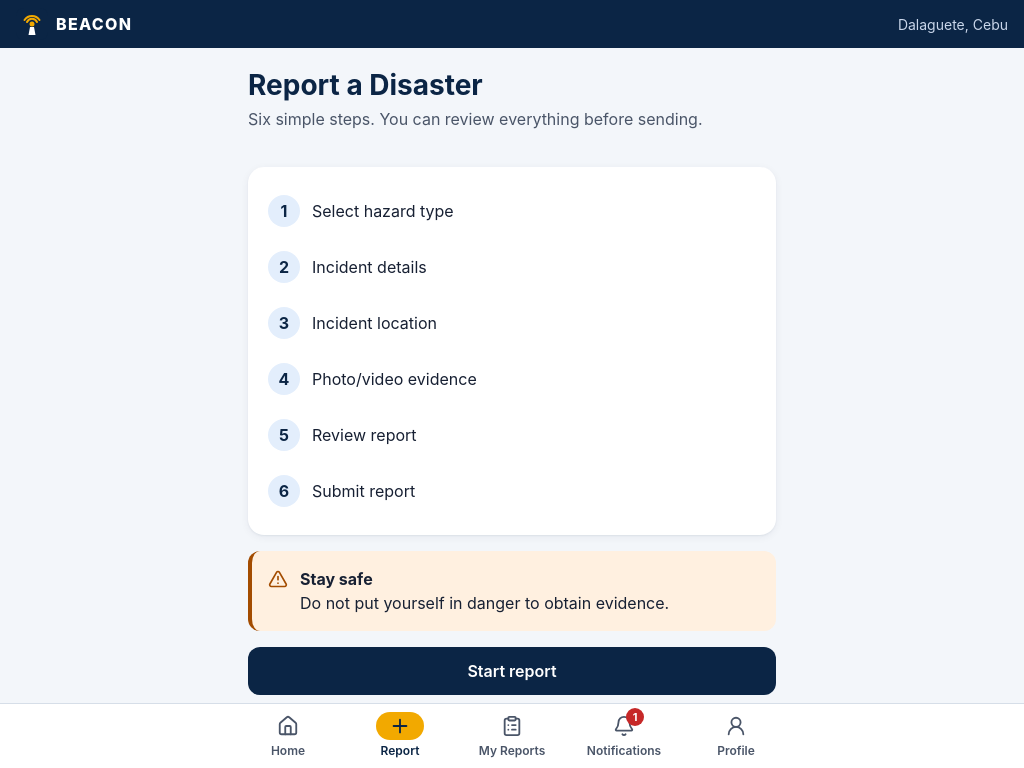
Test: step 2: incident details › requires a description
The width and height of the screenshot is (1024, 768).
Click the button "Start report" at (512, 671), box [248, 647, 776, 695]
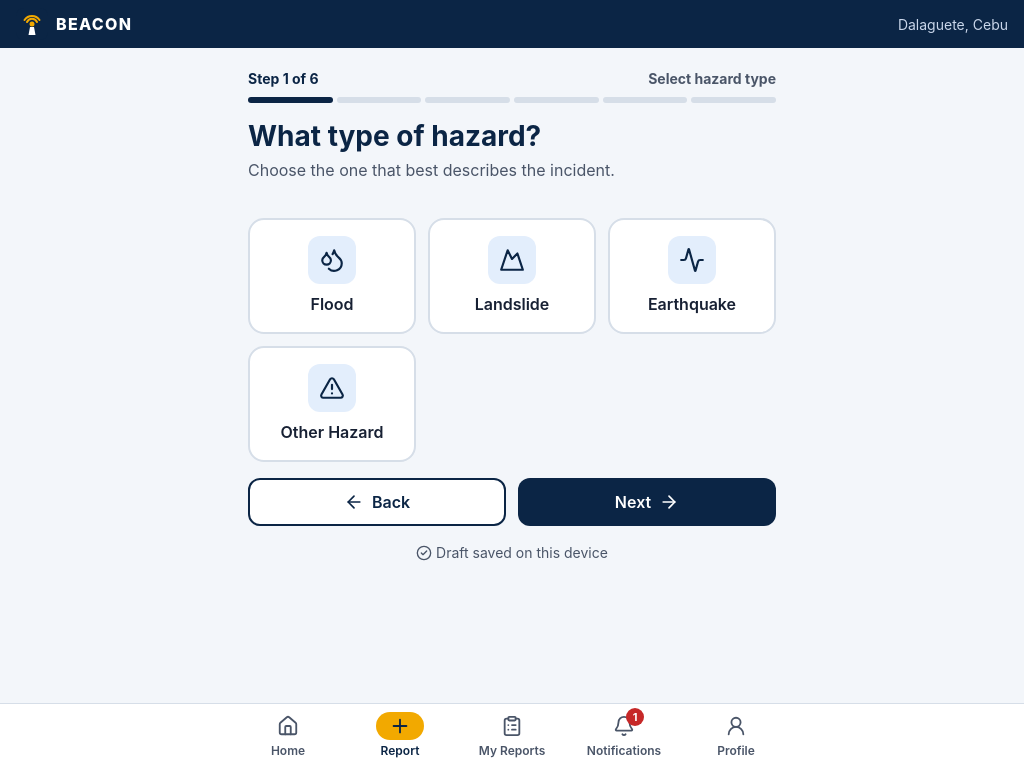
Expected: the heading "What type of hazard?" is shown, [248, 119, 541, 153]
Click the radio button labelled "Landslide" at (512, 276), box [428, 218, 596, 334]
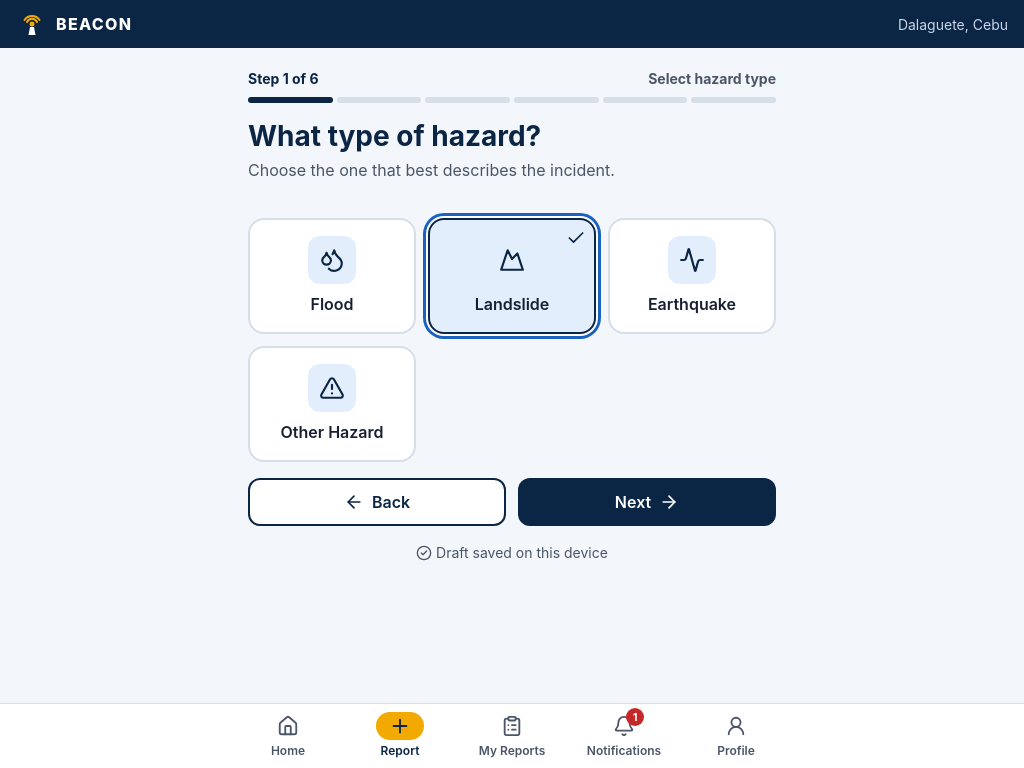
Click the button "Next" at (647, 502), box [518, 478, 776, 526]
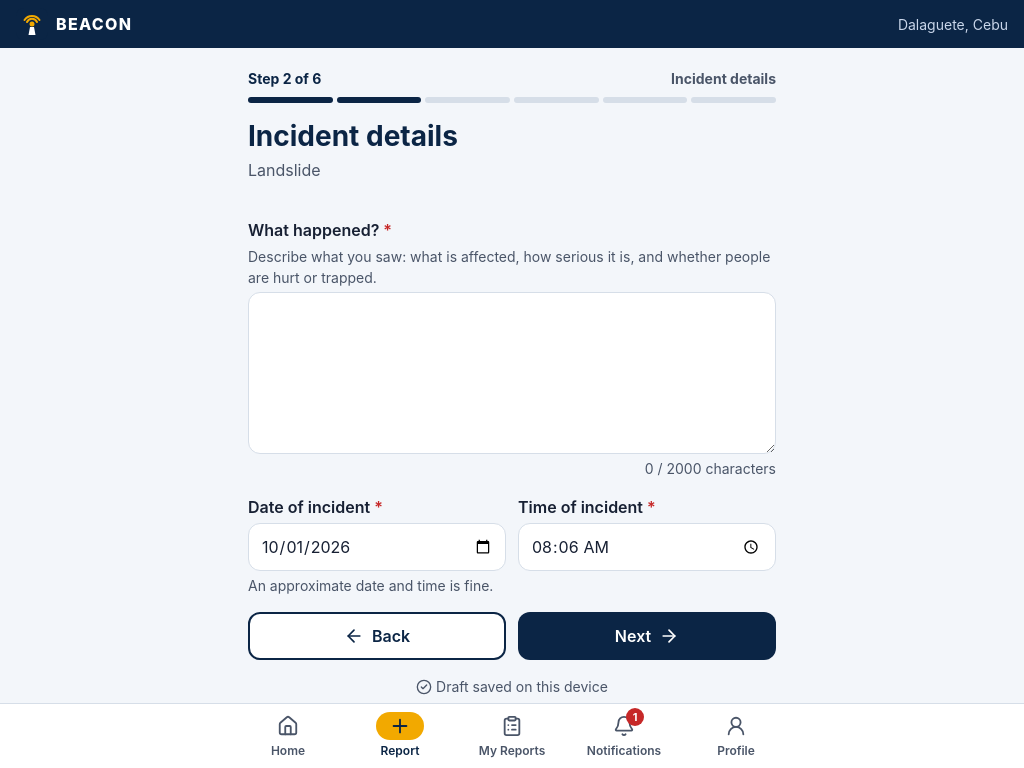
Expected: the heading "Incident details" is shown, [248, 119, 458, 153]
Click the button "Next" at (647, 636), box [518, 612, 776, 660]
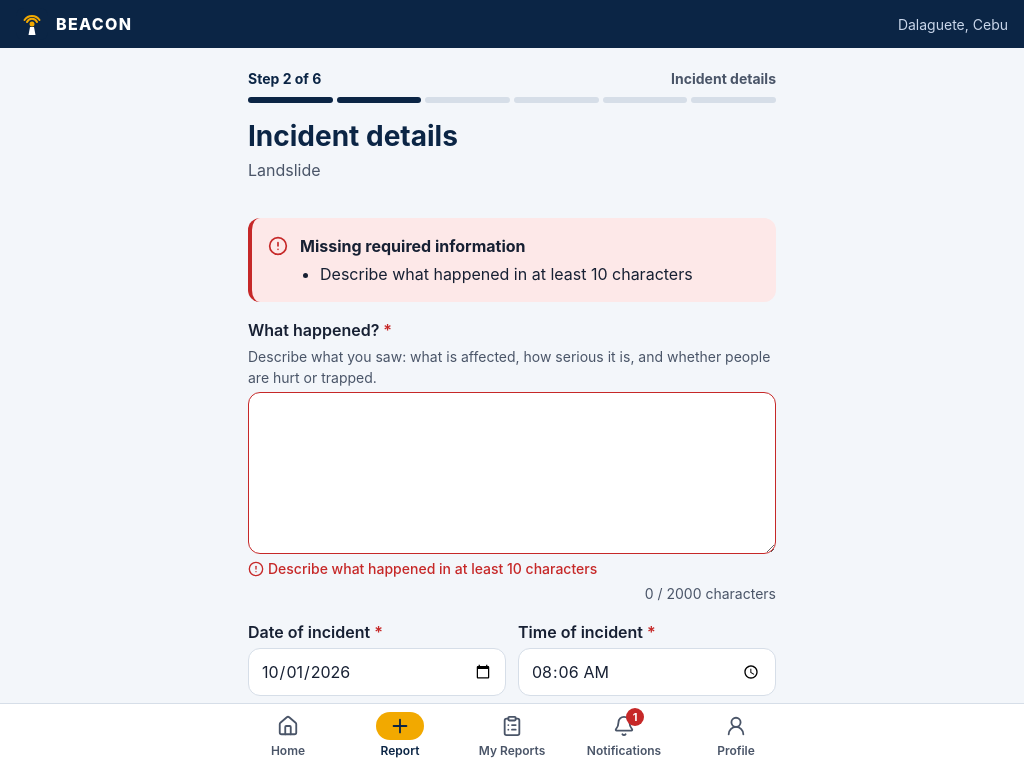
Expected: the list item "Describe what happened in at least 10 characters" is shown, [320, 262, 693, 286]
